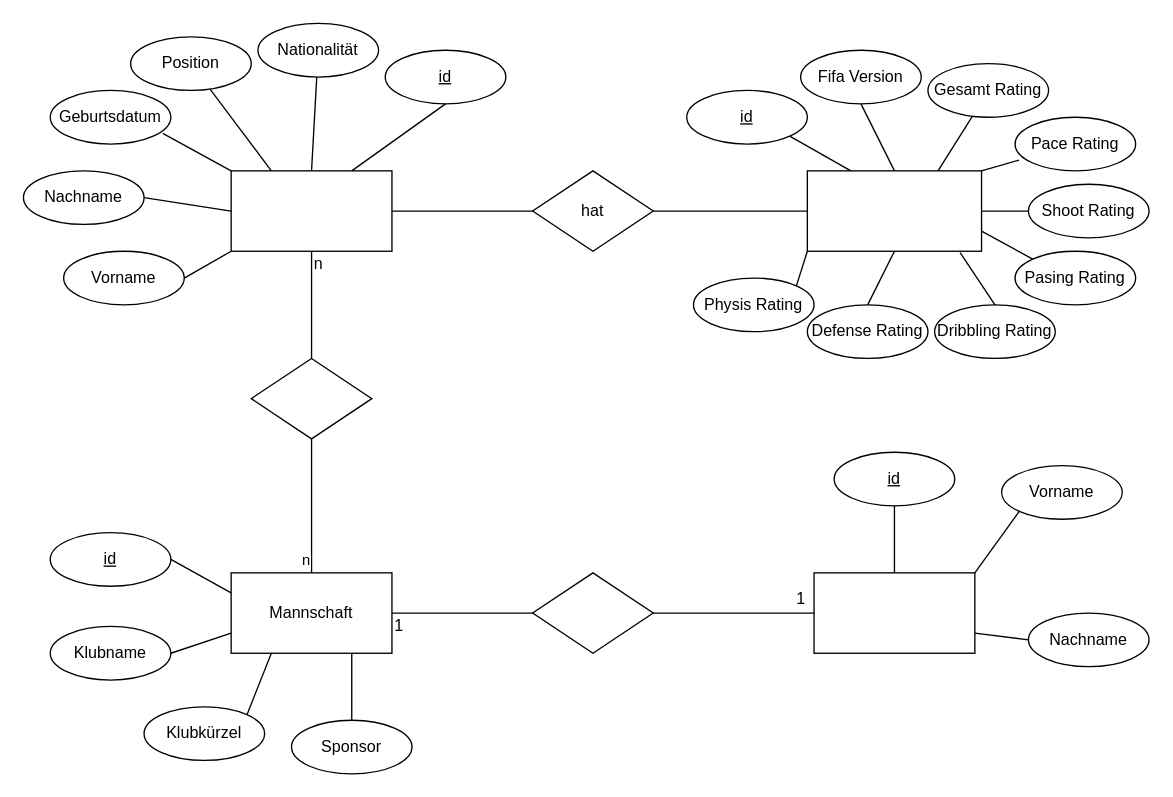
The diagram is 1173 pixels wide and 797 high, and some of its shapes have lost their labels. The centre of each missing label's shape, as x and y in pixels:
Coach: the point at 894,612
coacht: the point at 592,612
Fifa Ranking: the point at 894,210
Spieler: the point at 311,210
spielt: the point at 311,398
